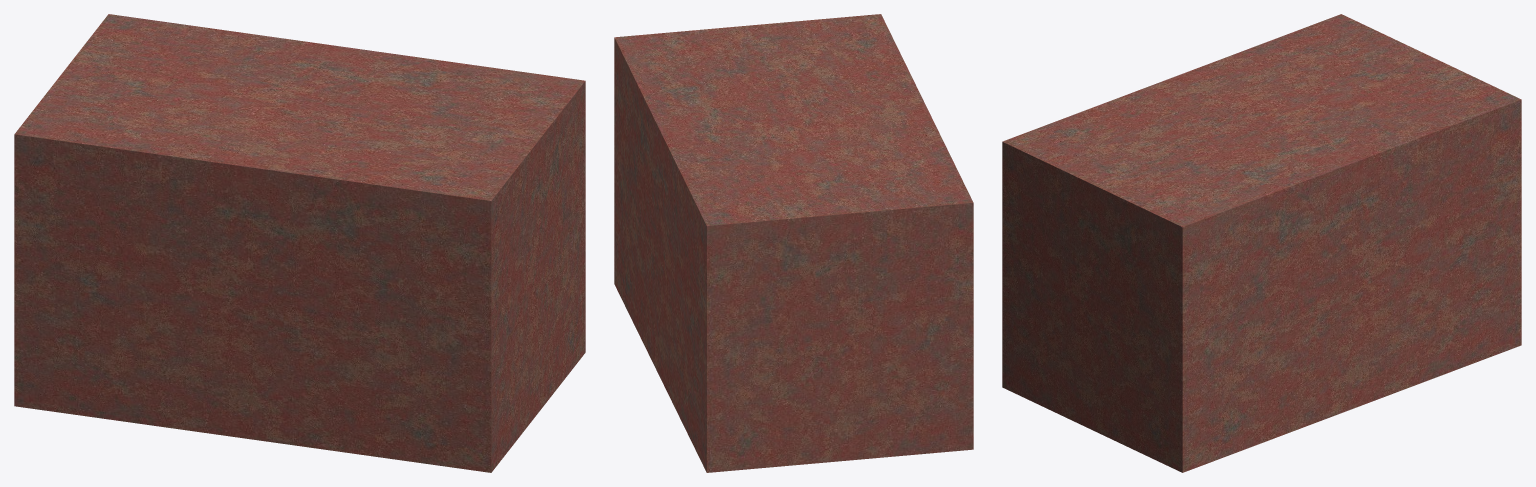
Rendered from cage_small.glb.
3 views of the same model, side by side, from view 1: azimuth 30°, elevation 25°; view 2: azimuth 150°, elevation 25°; view 3: azimuth 270°, elevation 25° (orthographic). The views are drawn at different scales.
Parts seen in each view (by area): view 1: cage_small_Baked; view 2: cage_small_Baked; view 3: cage_small_Baked.
Boxes of the visible parts, x1=… form: cage_small_Baked: x1=14, y1=14, x2=585, y2=472; cage_small_Baked: x1=614, y1=14, x2=973, y2=472; cage_small_Baked: x1=1002, y1=14, x2=1521, y2=472.
Bounding box in the file's own units: 1.86 × 1 × 1.92.
Materials: 1 (1 with a texture image).
